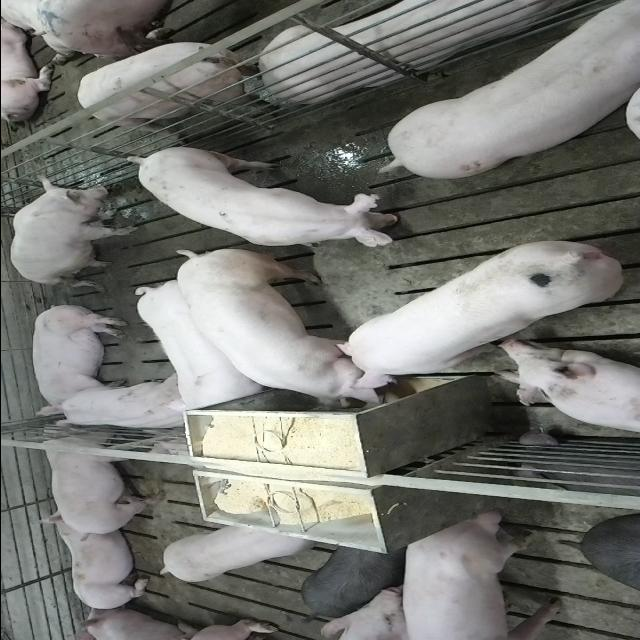Feeding: (332, 238, 624, 396), (172, 251, 394, 417)
Lateral_lying: (29, 302, 129, 418)
Sitting: (8, 174, 138, 286)
Standing: (382, 5, 640, 182), (128, 144, 417, 246), (75, 33, 281, 133), (401, 508, 556, 637), (128, 280, 263, 410), (29, 422, 168, 537), (153, 523, 316, 587), (300, 544, 406, 620)
Sternal_lying: (258, 0, 602, 100), (493, 342, 640, 438), (37, 517, 155, 613), (49, 377, 192, 433)
